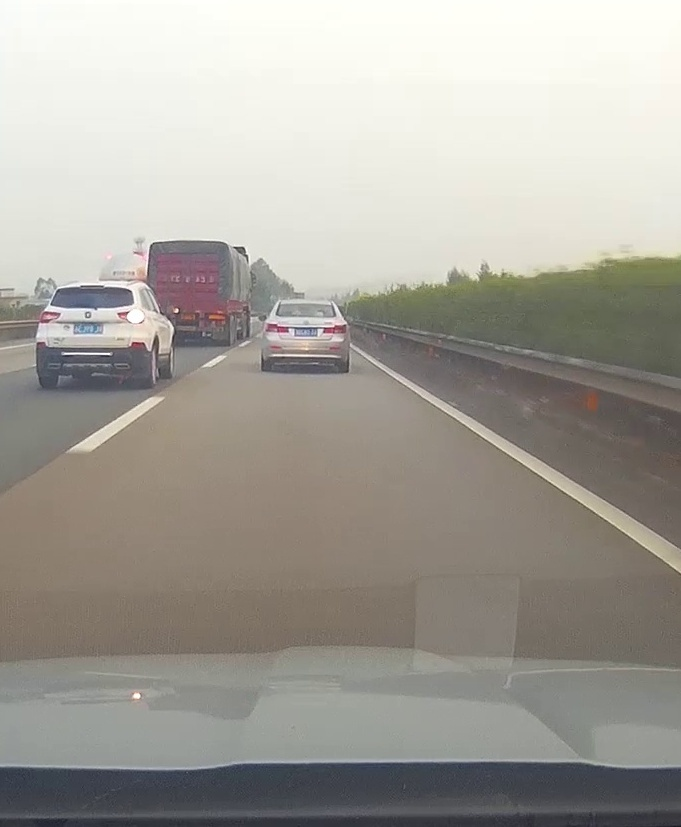L_light: (39, 310, 61, 324), (265, 322, 289, 333)
R_light: (117, 309, 146, 324), (323, 324, 347, 333)
T_light: (81, 285, 104, 288), (299, 303, 313, 306)
day-no: (261, 299, 349, 372)
day-right: (37, 282, 146, 389)
